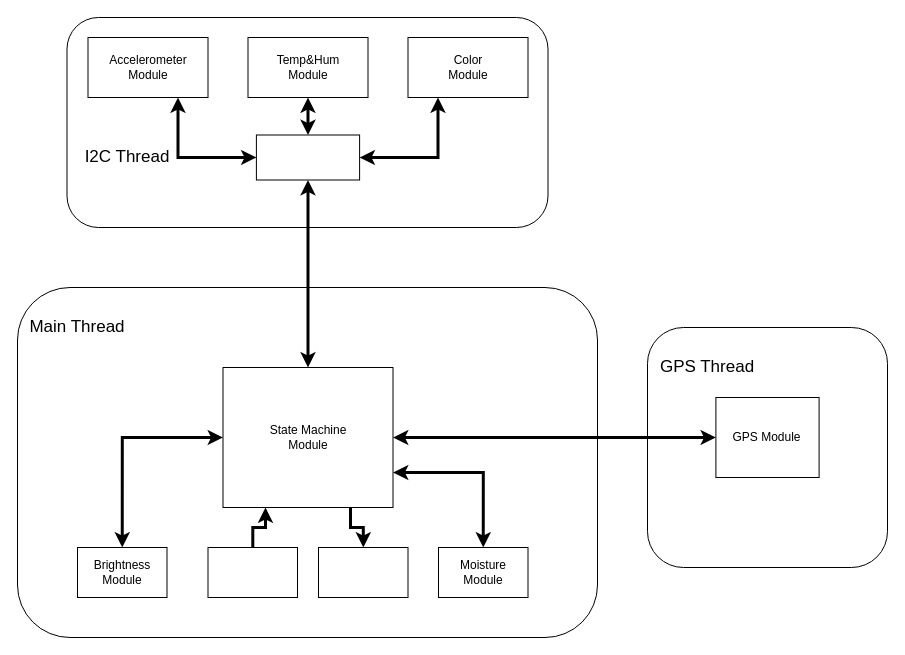
This 905x655 diagram has some shape labels left out. The box of each missing label's shape, as (x1, y1, x2, y2) in pixels:
Button Module: (207, 546, 298, 598)
I2C Module: (255, 134, 360, 180)
LED Module: (318, 546, 408, 598)
